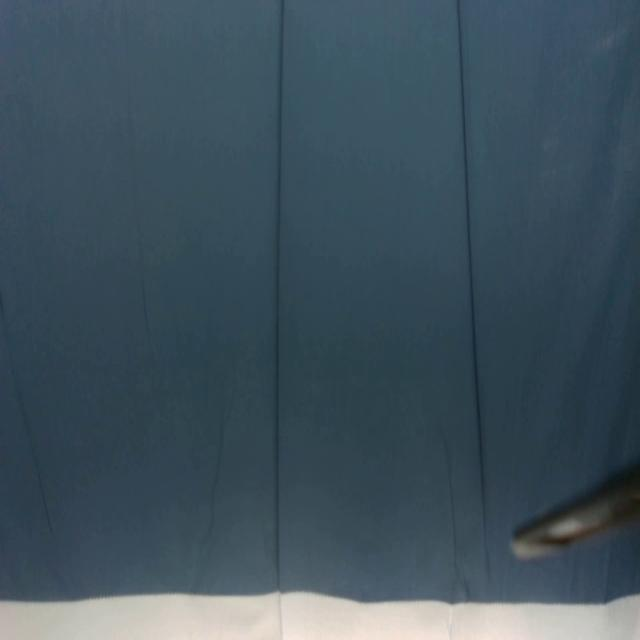crease: (452, 0, 494, 589), (0, 280, 58, 537), (270, 2, 289, 639), (122, 0, 150, 335)
